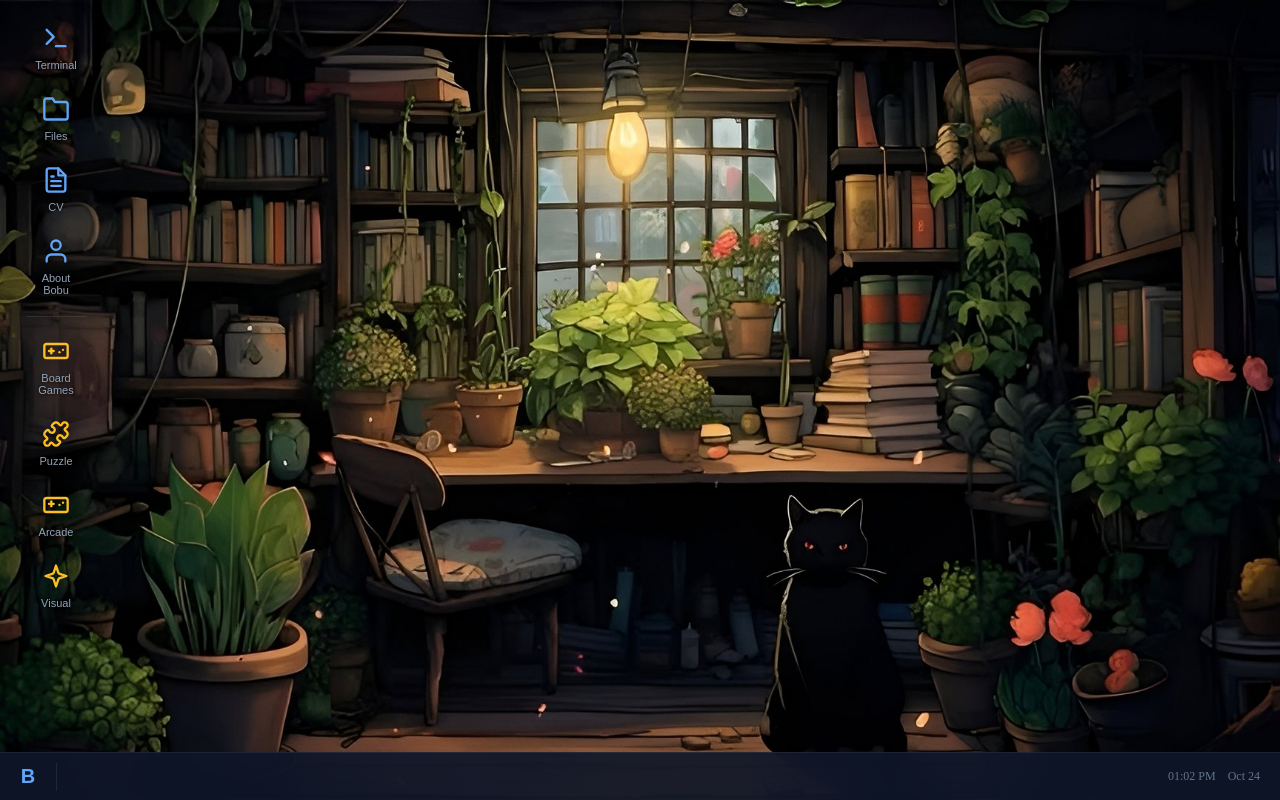
Scenario: HomePage desktop › opens the CV window with resume content
Double-click the button titled "CV": coordinates (56, 190) left=16, top=158, right=96, bottom=221
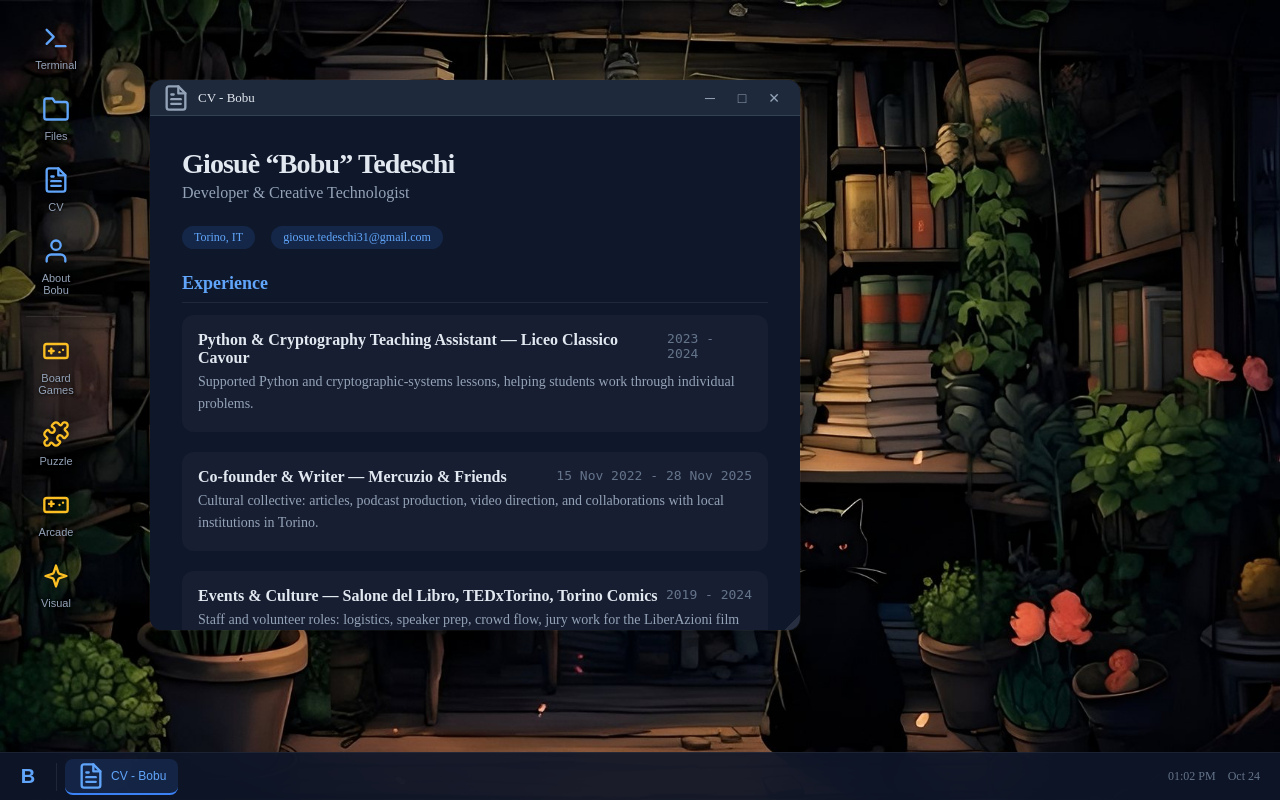
Result: the text "Developer & Creative Technologist" is shown at left=182, top=184, right=409, bottom=201
